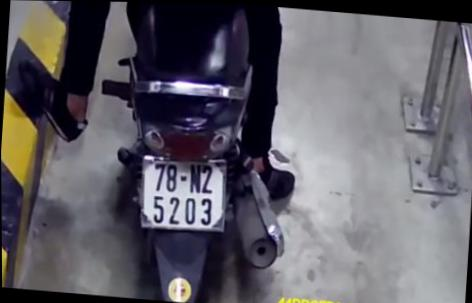LP: (135, 153, 231, 234)
